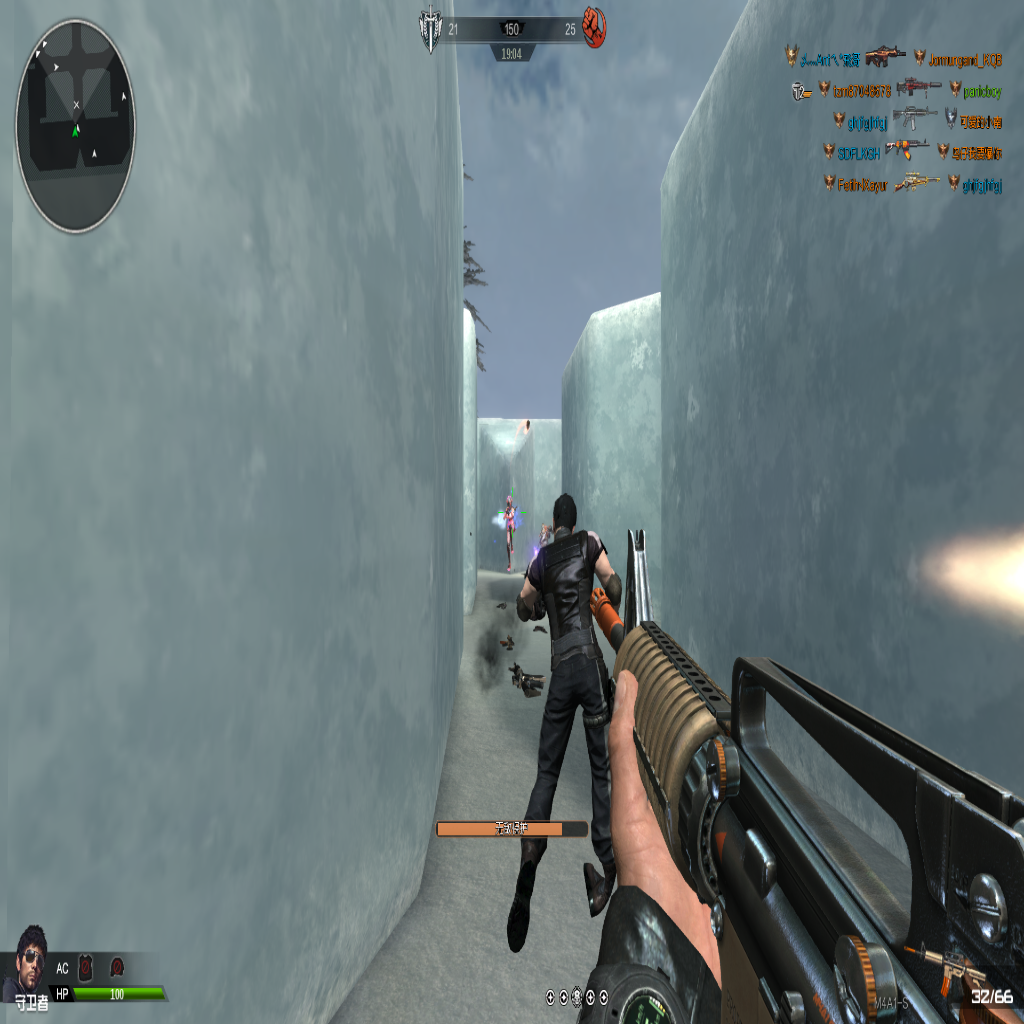ct: (506, 495, 625, 968)
tt: (501, 490, 516, 573)
